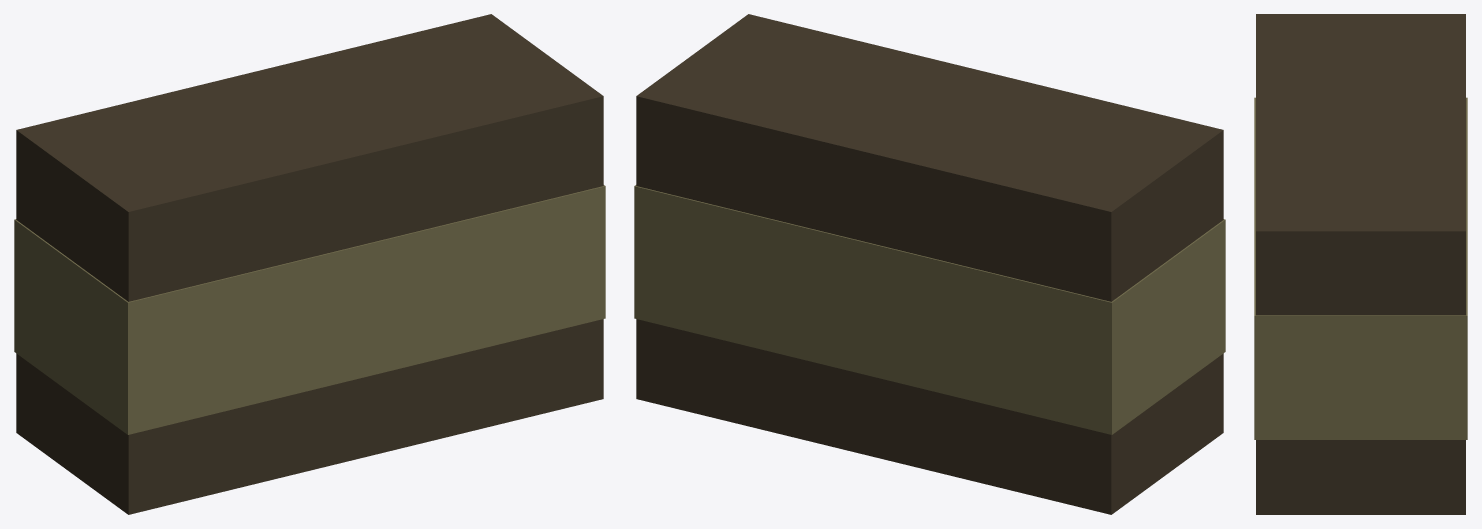
File: cartridge_box_7_d_62x39.glb
3 views of the same model, side by side, from view 1: azimuth 30°, elevation 25°; view 2: azimuth 150°, elevation 25°; view 3: azimuth 270°, elevation 25° (orthographic). The views are drawn at different scales.
Visible parts, largest first — view 1: package:carton; view 2: package:carton; view 3: package:carton.
Part boxes in pixels (x1,y1,x2,y2): package:carton: [14, 14, 605, 514]; package:carton: [634, 14, 1225, 514]; package:carton: [1254, 14, 1467, 514].
Size of the model in its own units: 0.1106 by 0.067 by 0.0456.
